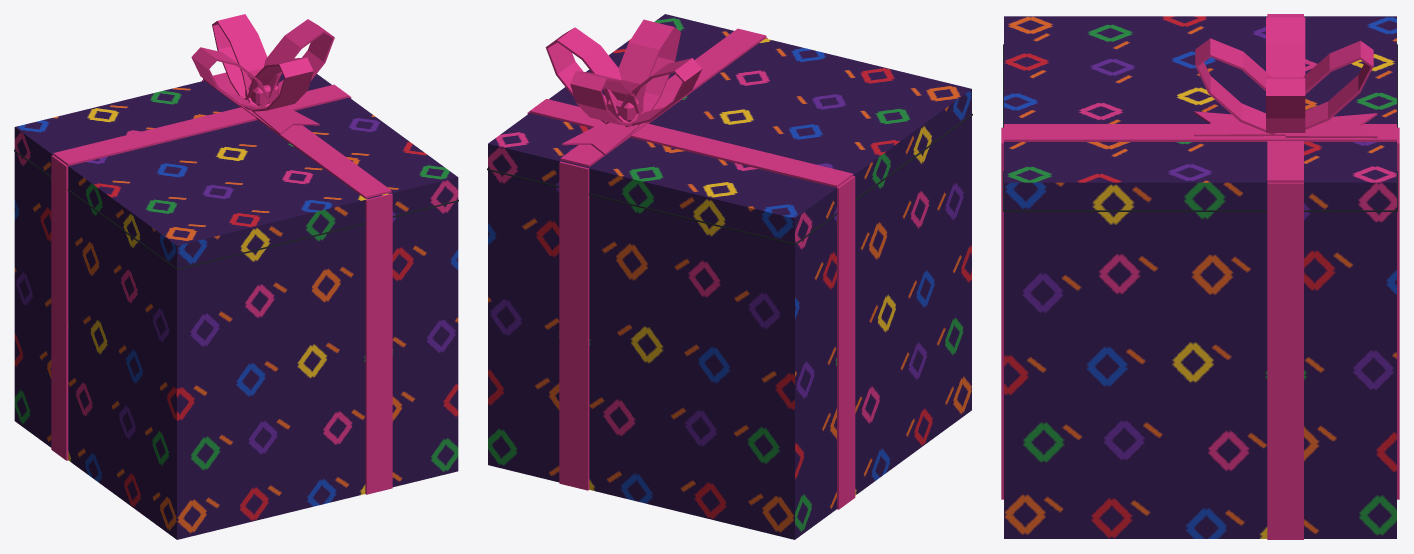
Rendered from party_gift_arcade.glb.
The picture shows the model from 3 angles, left to right: view 1: azimuth 30°, elevation 25°; view 2: azimuth 150°, elevation 25°; view 3: azimuth 270°, elevation 25°; orthographic projection. The views are drawn at different scales.
Parts seen in each view (by area): view 1: party_gift_arcade_body; view 2: party_gift_arcade_body; view 3: party_gift_arcade_body.
Boxes of the visible parts, x1,y1,x2,y2 form: party_gift_arcade_body: [14, 14, 458, 539]; party_gift_arcade_body: [487, 14, 972, 539]; party_gift_arcade_body: [1001, 14, 1399, 539].
Size of the model in its own units: 0.304 by 0.3748 by 0.304.
3 materials, 3 textured.
